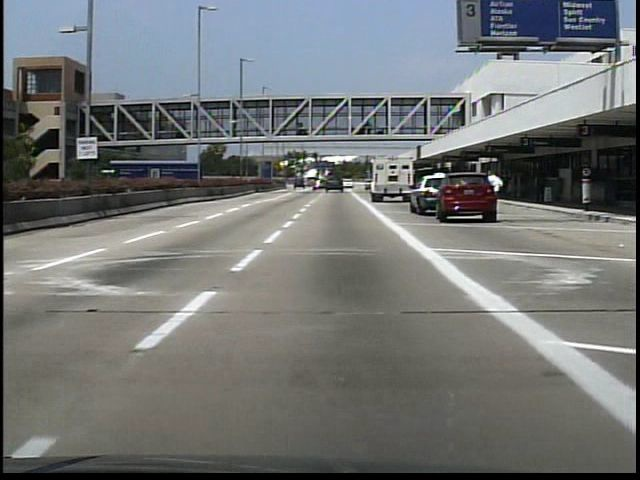person: (484, 170, 504, 223)
